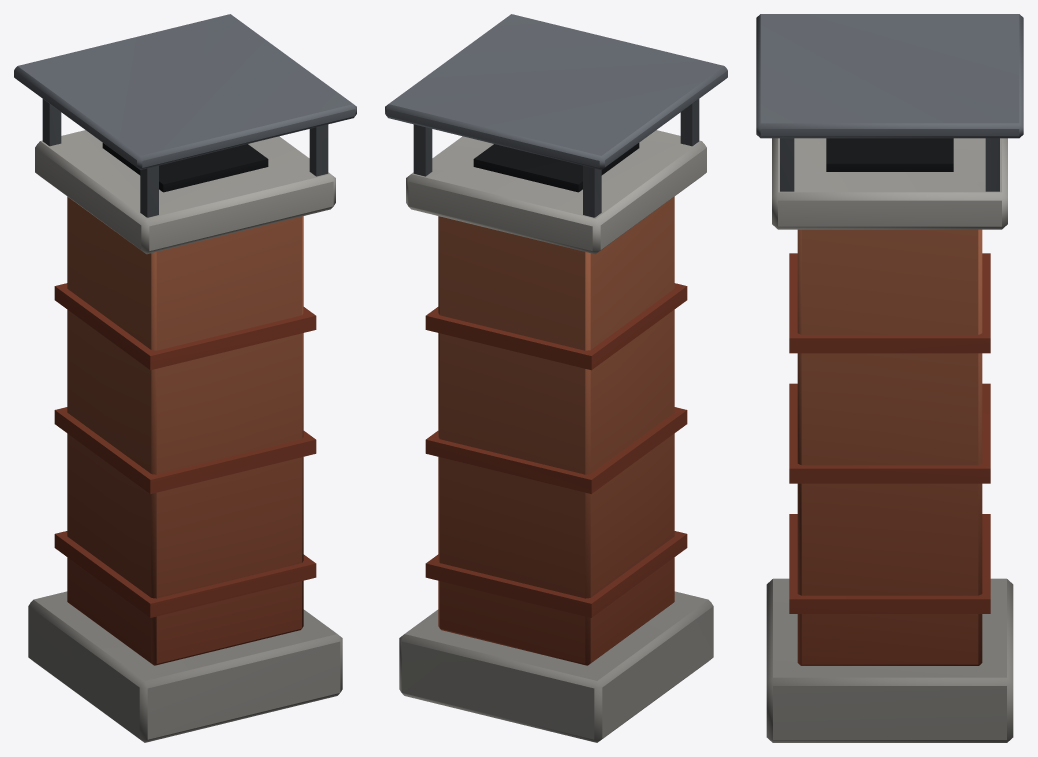
Rendered from chimenea.glb.
3 renders of one model, left to right at view 1: azimuth 30°, elevation 25°; view 2: azimuth 150°, elevation 25°; view 3: azimuth 270°, elevation 25°, orthographic. The views are drawn at different scales.
Visible parts, largest first — view 1: chimenea; view 2: chimenea; view 3: chimenea.
Boxes of the visible parts, x1,y1,x2,y2 form: chimenea: [14, 14, 356, 742]; chimenea: [385, 14, 727, 742]; chimenea: [756, 14, 1023, 742].
Size of the model in its own units: 1.3 by 3.35 by 1.3.
